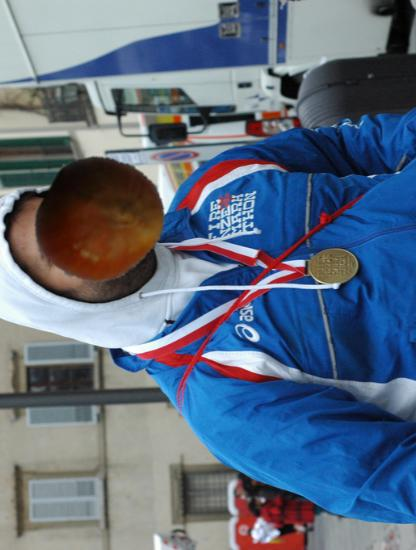Nut: (36, 156, 165, 285)
